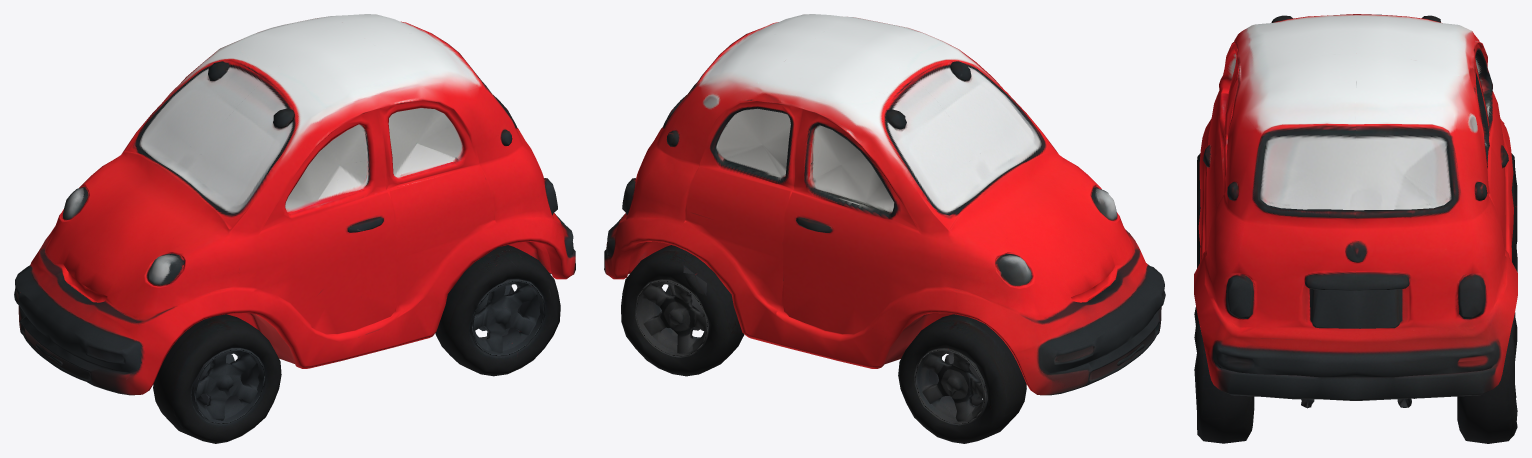
Rendered from trafficHatch.b95d3c37.glb.
3 views of the same model, side by side, from view 1: azimuth 30°, elevation 25°; view 2: azimuth 150°, elevation 25°; view 3: azimuth 270°, elevation 25° (orthographic). The views are drawn at different scales.
Size of the model in its own units: 0.9521 by 0.5757 by 0.4917.
1 material, 1 textured.
